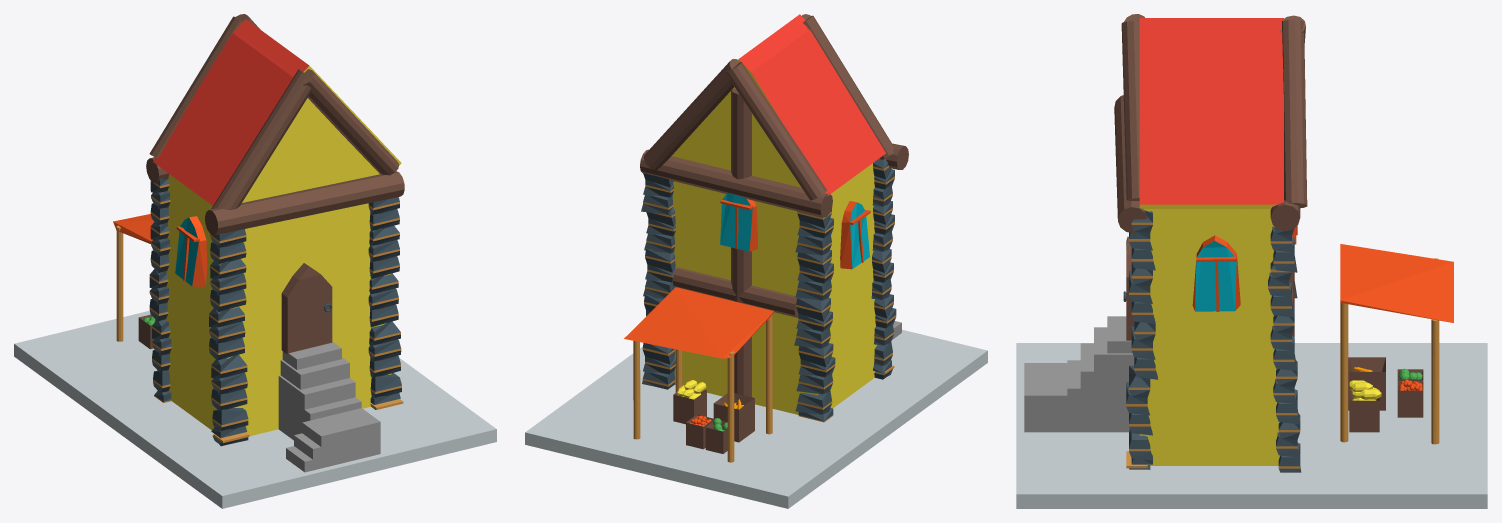
File: village-house.glb
The picture shows the model from 3 angles, left to right: view 1: azimuth 30°, elevation 25°; view 2: azimuth 150°, elevation 25°; view 3: azimuth 270°, elevation 25°; orthographic projection. The views are drawn at different scales.
Parts seen in each view (by area): view 1: Node; view 2: Node; view 3: Node.
Boxes of the visible parts, left/top/right/bottom form: Node: left=14, top=14, right=496, bottom=508; Node: left=525, top=14, right=987, bottom=508; Node: left=1016, top=14, right=1487, bottom=508.
Size of the model in its own units: 1.34 by 1.72 by 1.76.
